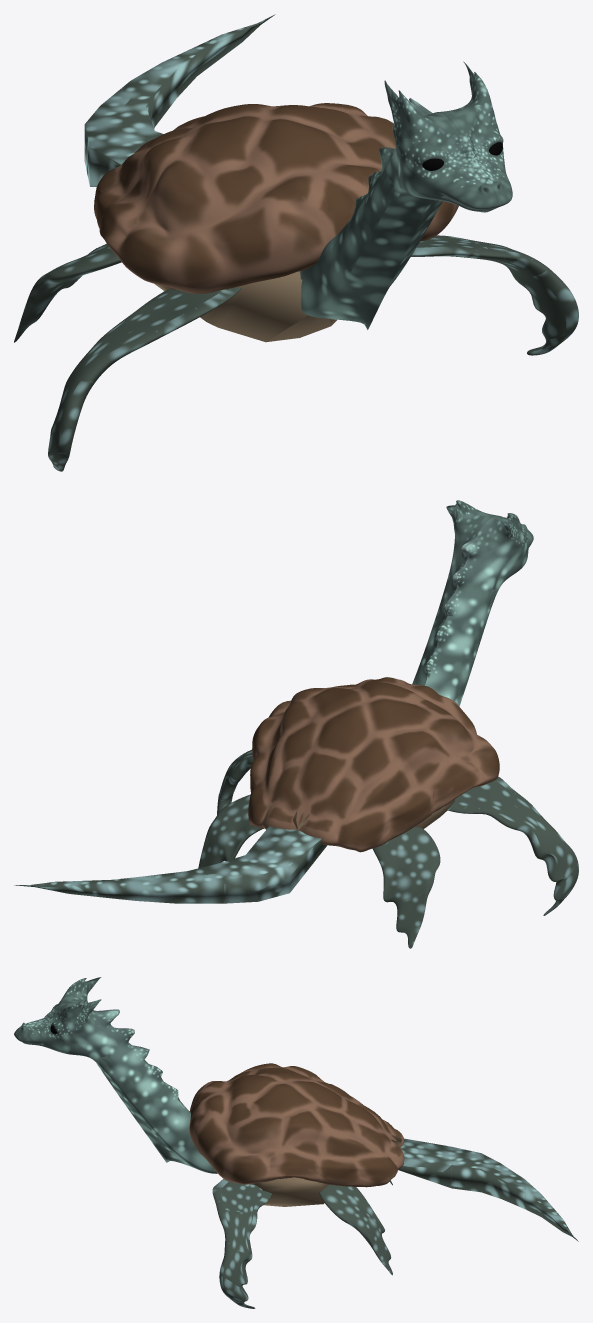
The picture shows the model from 3 angles, top to bottom: view 1: azimuth 30°, elevation 25°; view 2: azimuth 150°, elevation 25°; view 3: azimuth 270°, elevation 25°; orthographic projection. The views are drawn at different scales.
Parts seen in each view (by area): view 1: Cube, Cube.002, Cube.004, Cube.003, Cube.001, Cube.005; view 2: Cube, Cube.002, Cube.003, Cube.005, Cube.004; view 3: Cube, Cube.002, Cube.003, Cube.004, Cube.005, Cube.001.
Boxes of the visible parts, x1,y1,x2,y2 form: Cube: (94,103,458,293); Cube.002: (300,61,512,329); Cube.004: (48,235,578,471); Cube.003: (84,14,275,186); Cube.001: (154,271,336,342); Cube.005: (14,243,121,342); Cube: (248,677,499,852); Cube.002: (412,500,533,706); Cube.003: (14,826,326,903); Cube.005: (198,794,440,948); Cube.004: (217,749,578,915); Cube: (189,1063,404,1187); Cube.002: (14,977,217,1173); Cube.003: (398,1138,578,1241); Cube.004: (212,1179,272,1308); Cube.005: (319,1180,392,1275); Cube.001: (256,1134,401,1206).
Bounding box in the file's own units: 5.61 × 4.48 × 9.04.
7 materials, 6 textured.
